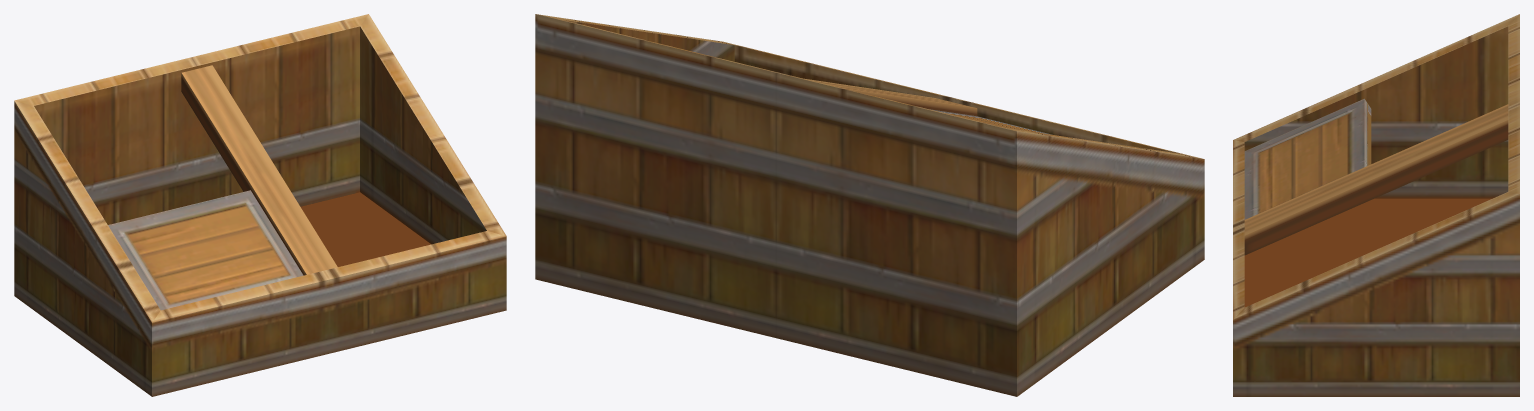
Rendered from zhucheng_mugui_2.FBX.
The picture shows the model from 3 angles, left to right: view 1: azimuth 30°, elevation 25°; view 2: azimuth 150°, elevation 25°; view 3: azimuth 270°, elevation 25°; orthographic projection. The views are drawn at different scales.
Parts seen in each view (by area): view 1: zhucheng_mugui_2; view 2: zhucheng_mugui_2; view 3: zhucheng_mugui_2.
Boxes of the visible parts, x1,y1,x2,y2 form: zhucheng_mugui_2: (14,14,506,396); zhucheng_mugui_2: (535,14,1204,396); zhucheng_mugui_2: (1233,14,1519,396).
Size of the model in its own units: 167 by 87.89 by 112.
